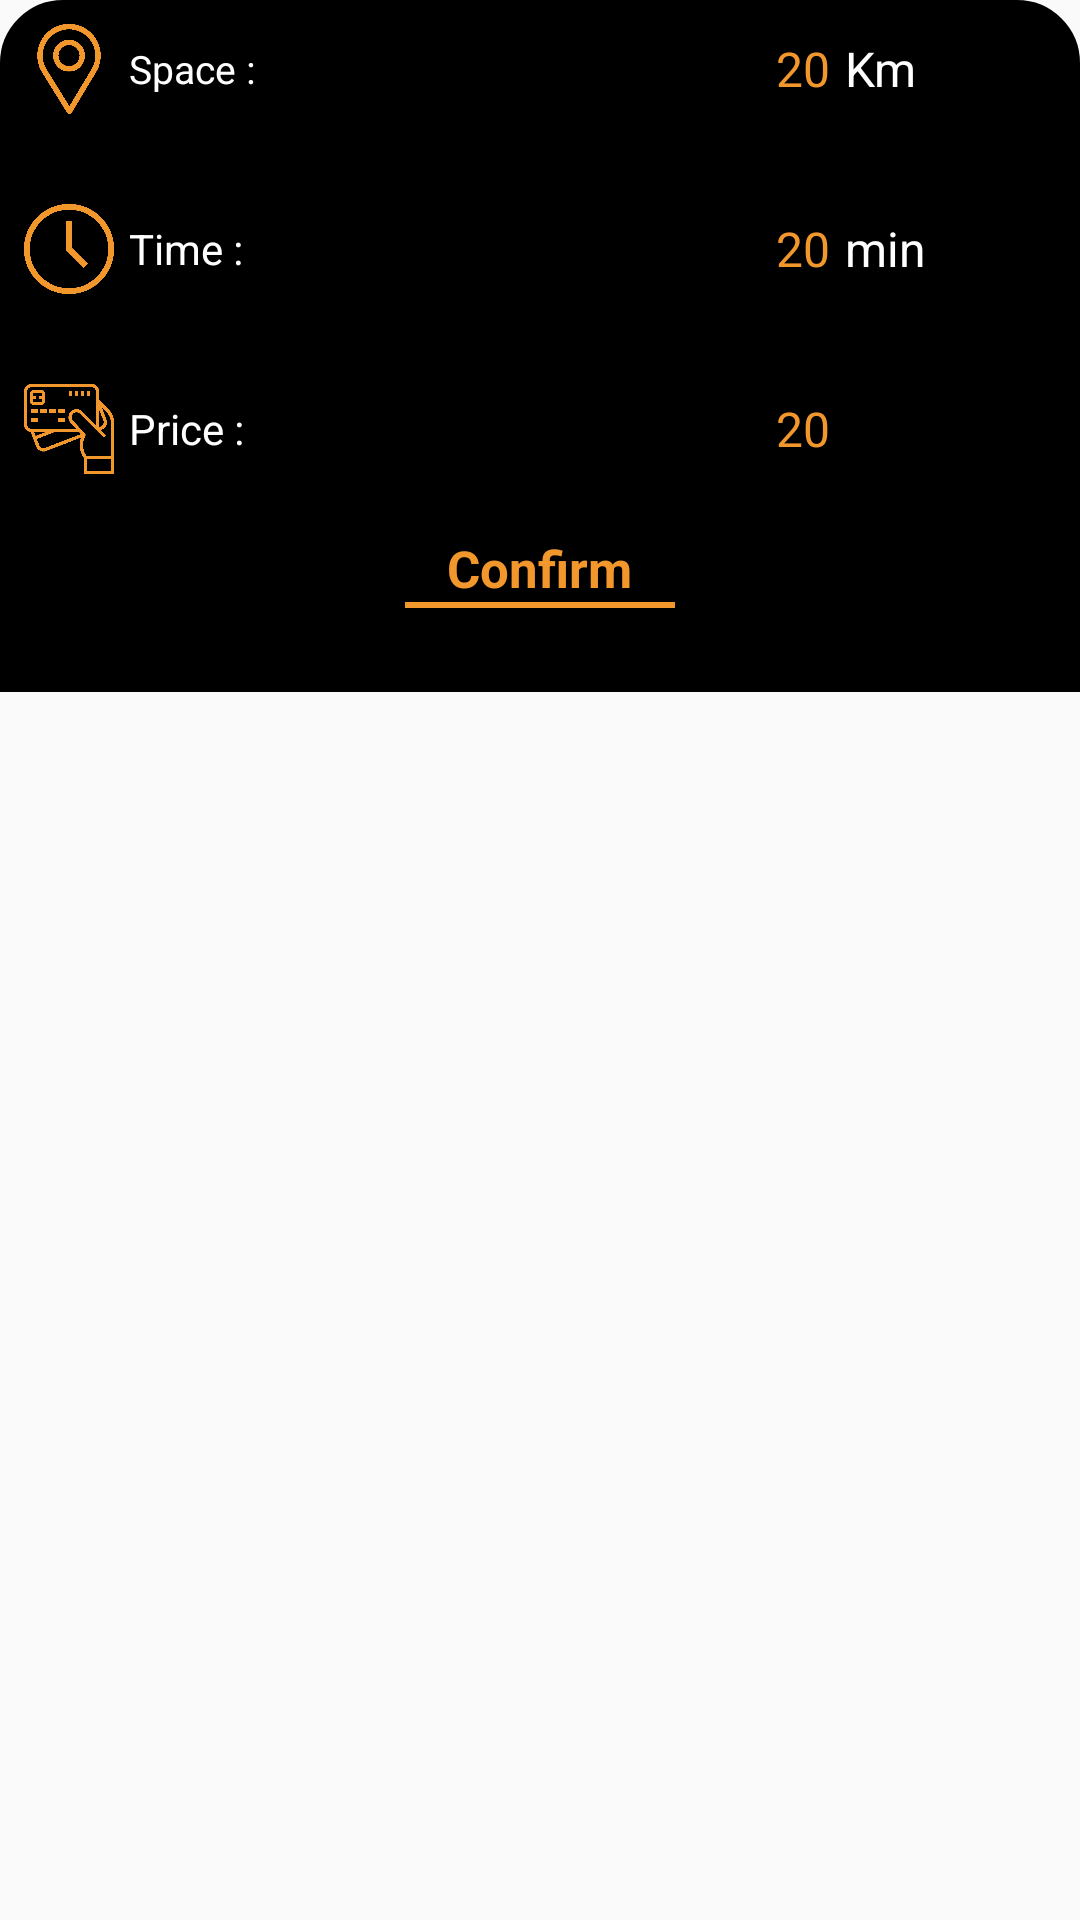

Named icons in this screenshot (1080 x 1920) and their centers, (x,y):
clock: (69,249)
location: (69,69)
